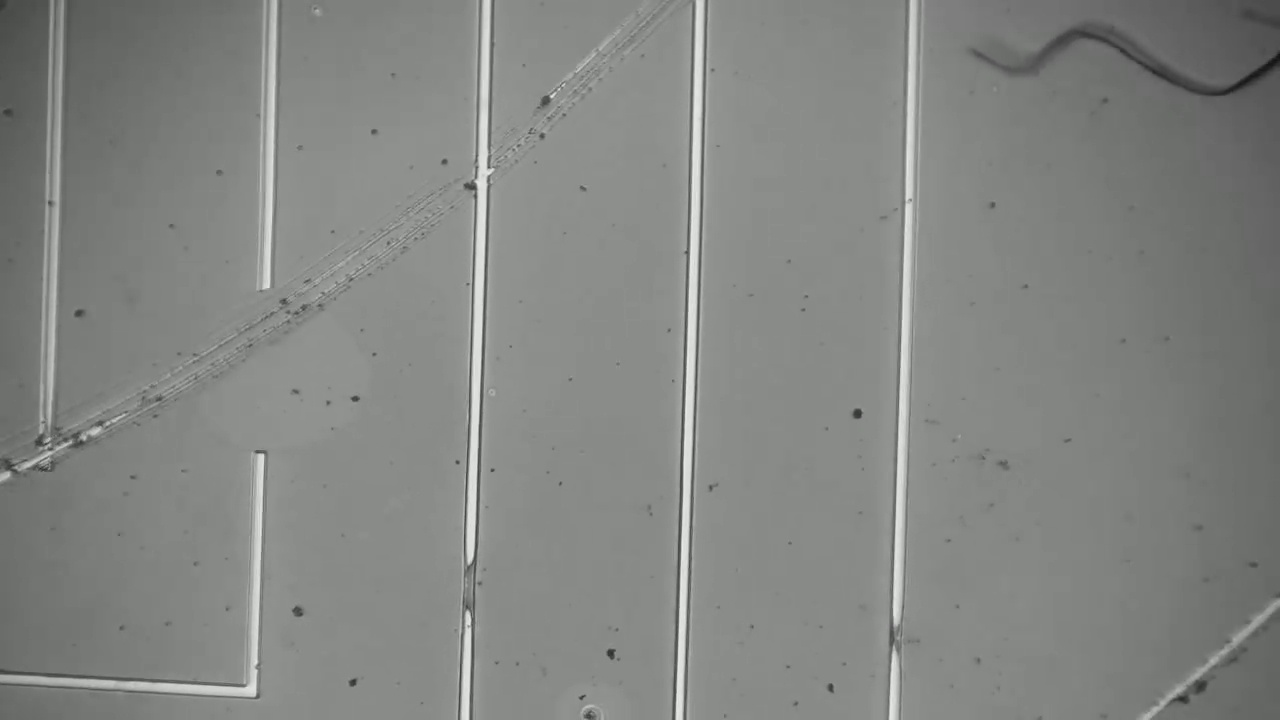gray_line: (435, 531, 497, 642), (873, 606, 920, 671)
open: (223, 248, 293, 518)
scratch: (20, 6, 687, 472), (1127, 578, 1279, 719)
